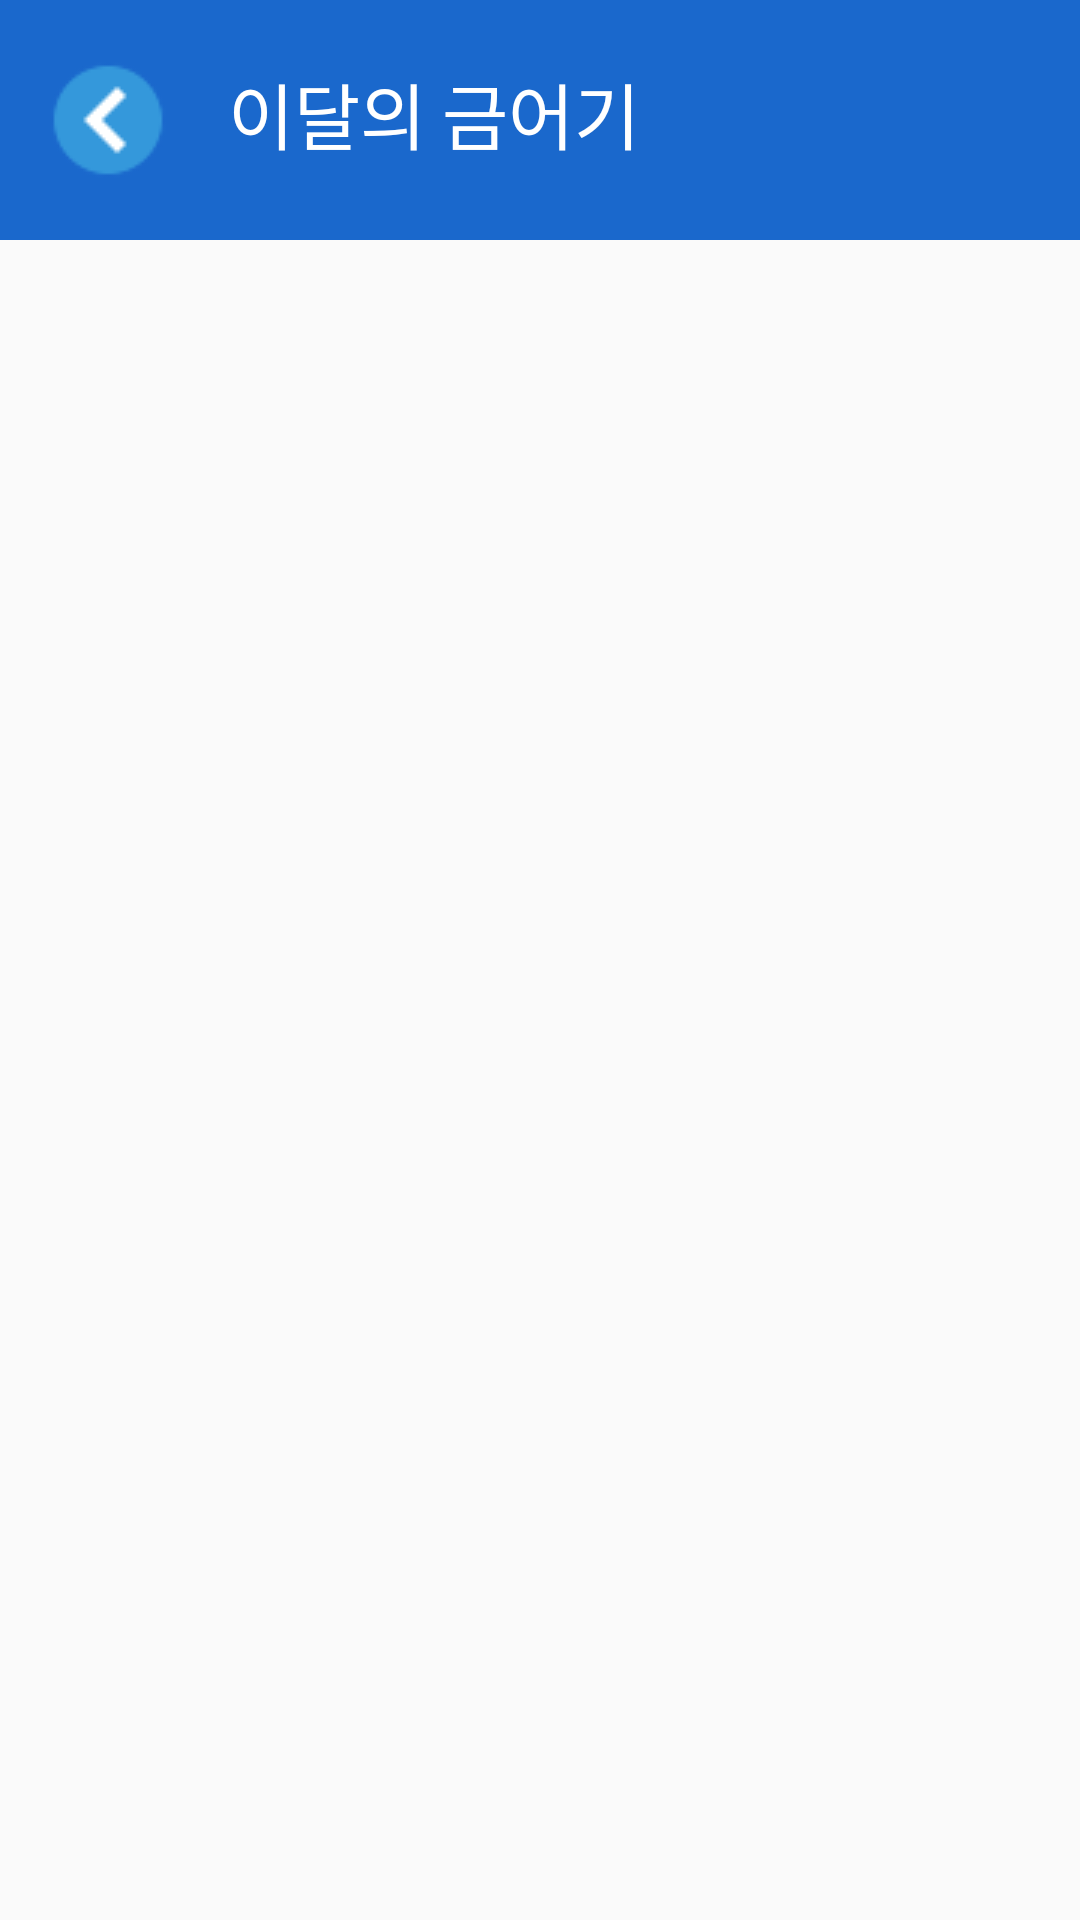

Icon click points for this 1080px x 1920px phone screenshot, format (x,y):
back to: (108,120)
